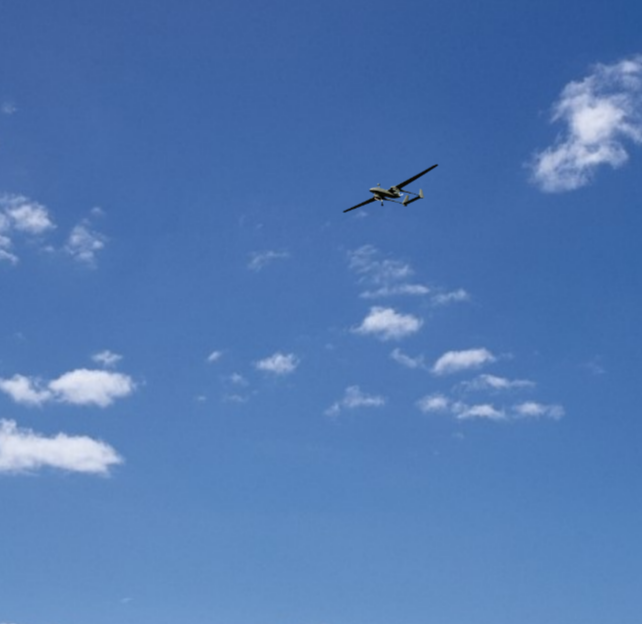military drone: (342, 163, 438, 212)
